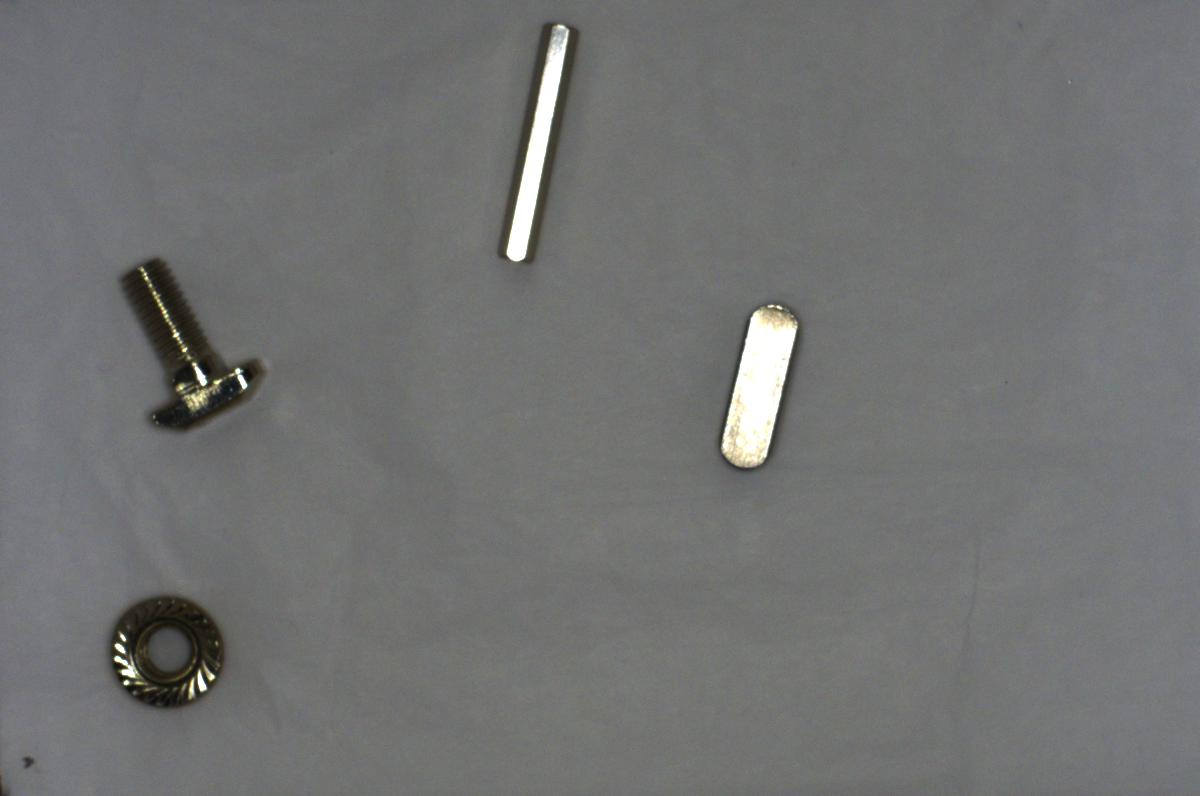Double hexagonal column: (477, 14, 585, 263)
Flange nut: (107, 581, 227, 716)
Keybar: (711, 298, 802, 470)
T-shaped screw: (125, 243, 275, 441)
